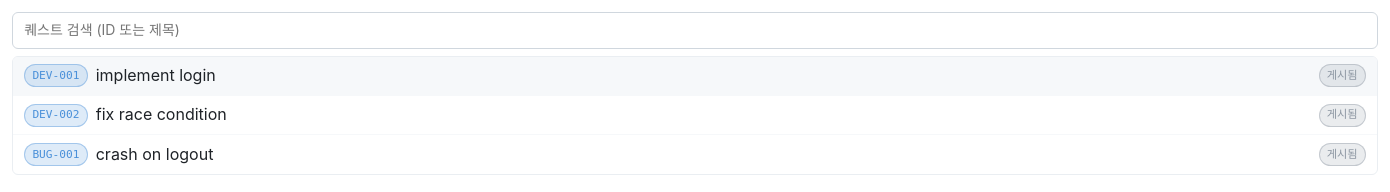
Test: QuestCombobox › filters by title substring (case-insensitive)
Step 1. Type "LOGIN" into the field with test id "quest-combobox-input" → [695, 31], box [12, 12, 1378, 49]
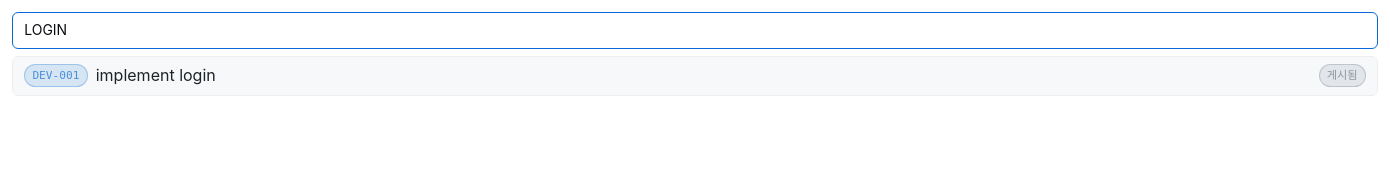
Result: the number of buttons with test id "quest-combobox-option" is 1 at [13, 57, 1377, 95]
